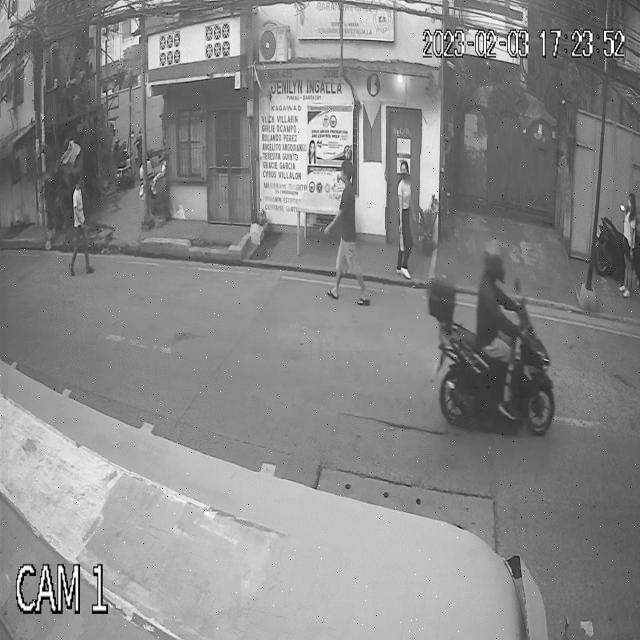human: (394, 157, 414, 283)
trash: (399, 224, 407, 256)
